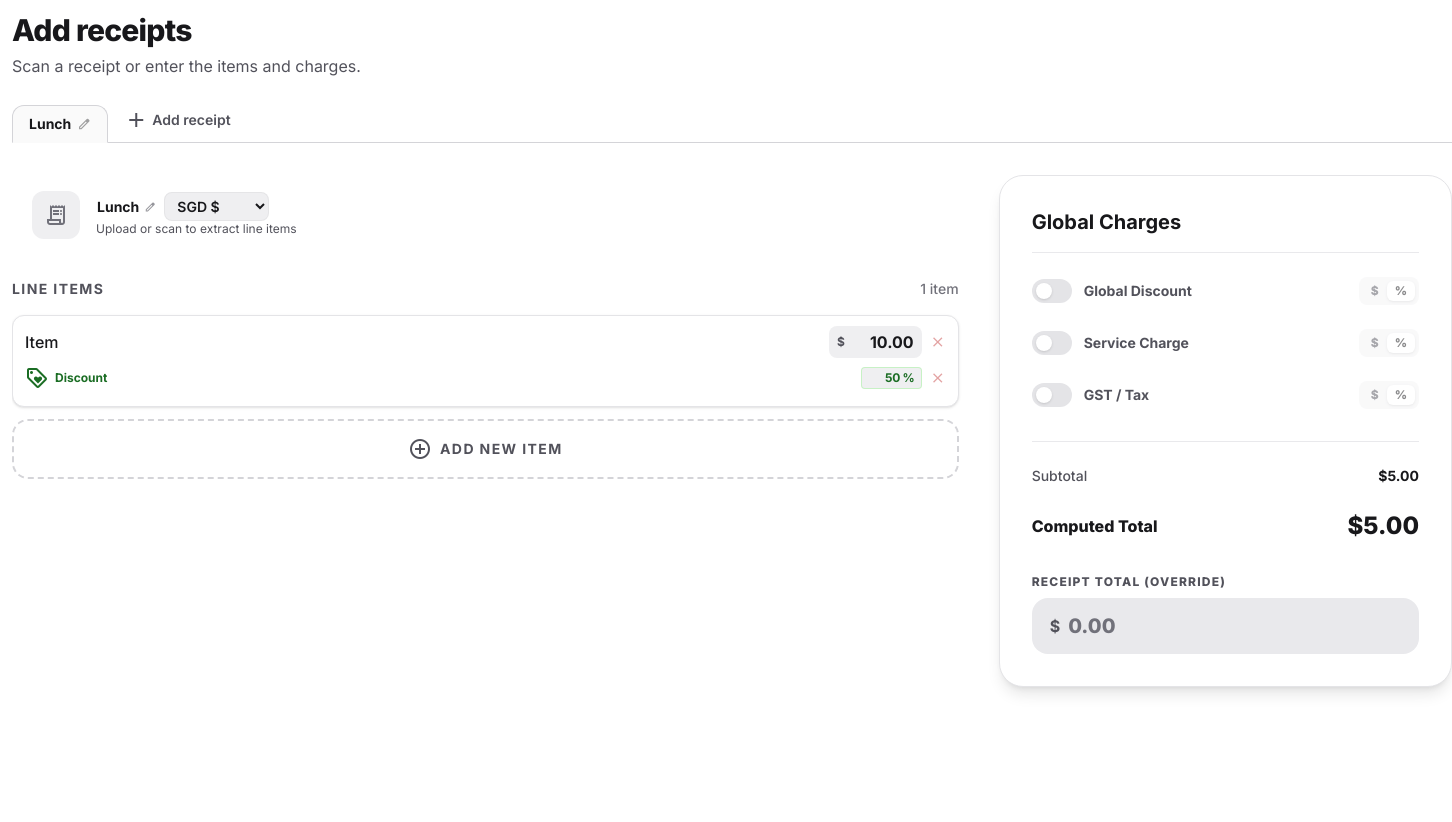
Scenario: ReceiptStep › clears the line discount when it is removed
The image size is (1452, 822).
Click the button named "Remove discount" at (938, 378), box [930, 366, 946, 390]
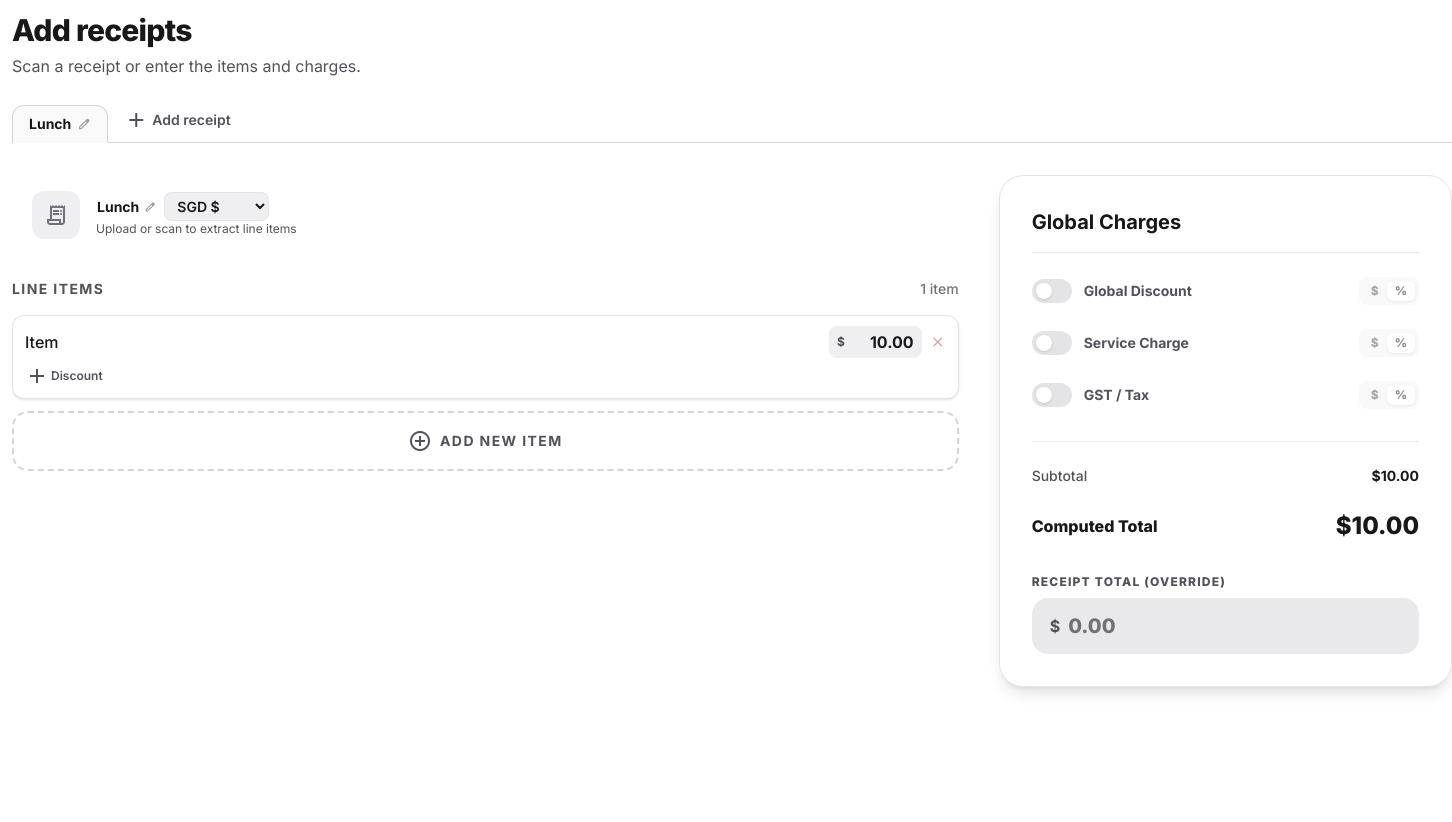
Check: the button "Discount" is shown, box [25, 364, 103, 388]
